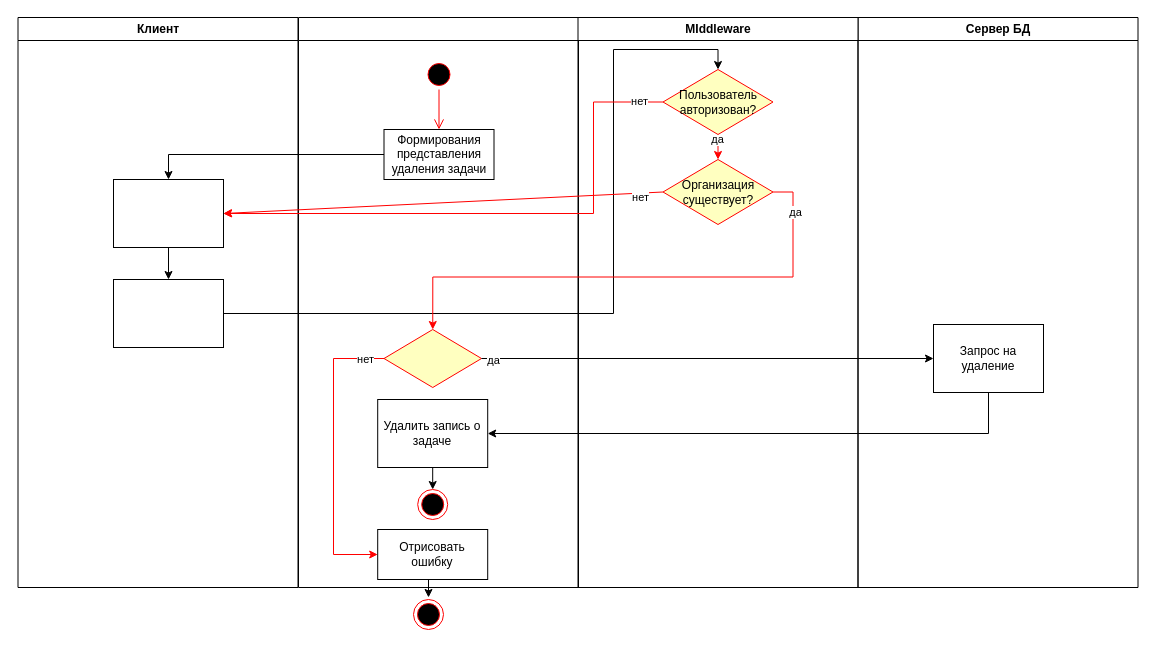
This 1155x647 diagram has some shape labels left out. The shapes that lost their labels are listed below. From the top down, each one's box as (x1, y1, x2, y2) in pixels, then its label:
(112, 178, 224, 248): Открыть мадальное окно задачи
(112, 278, 224, 348): Удалить задачу
(298, 16, 578, 588): Приложение
(383, 328, 482, 388): БД доступна?
